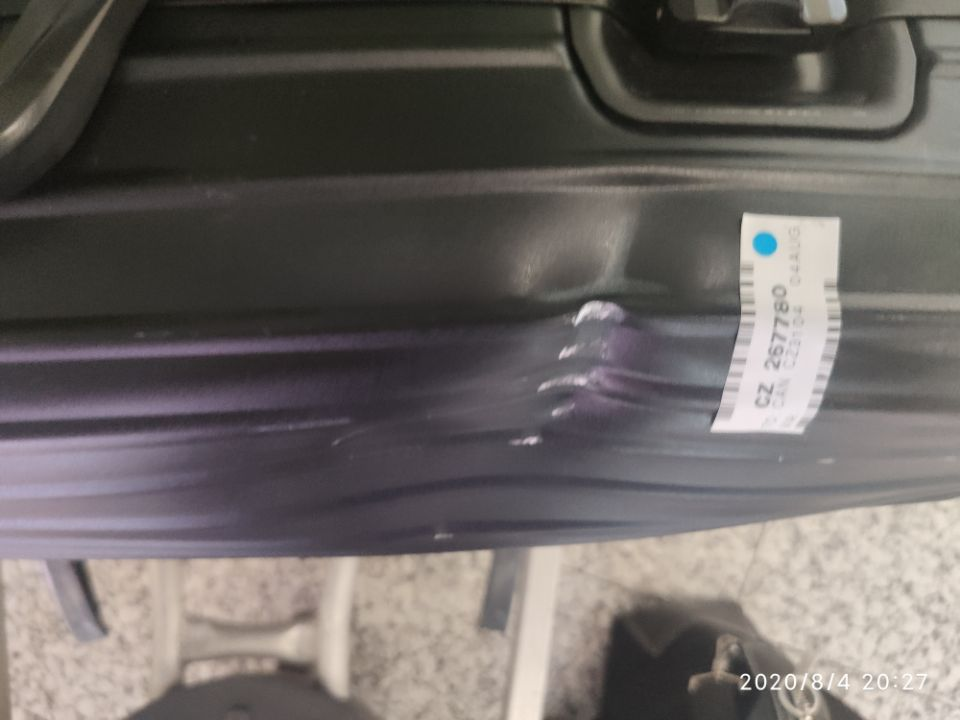rupture: (460, 209, 742, 441), (221, 386, 604, 552)
